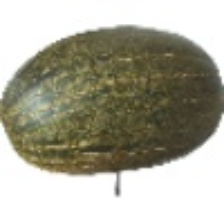honeydew: (18, 25, 175, 182)
